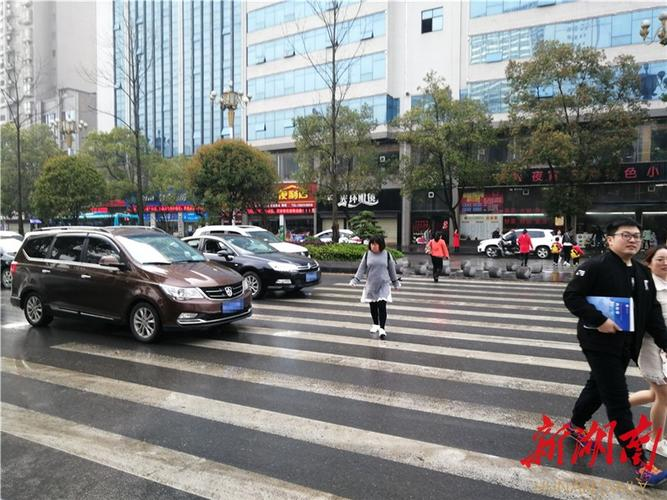car: (8, 225, 256, 343), (182, 235, 321, 299), (187, 225, 306, 257), (477, 229, 559, 258), (187, 225, 281, 242), (0, 231, 24, 288), (301, 230, 358, 245)
person: (561, 219, 667, 457), (630, 228, 667, 481), (348, 236, 401, 341), (647, 246, 667, 325), (425, 232, 450, 282), (550, 233, 573, 269), (515, 229, 533, 266), (492, 229, 501, 239)
